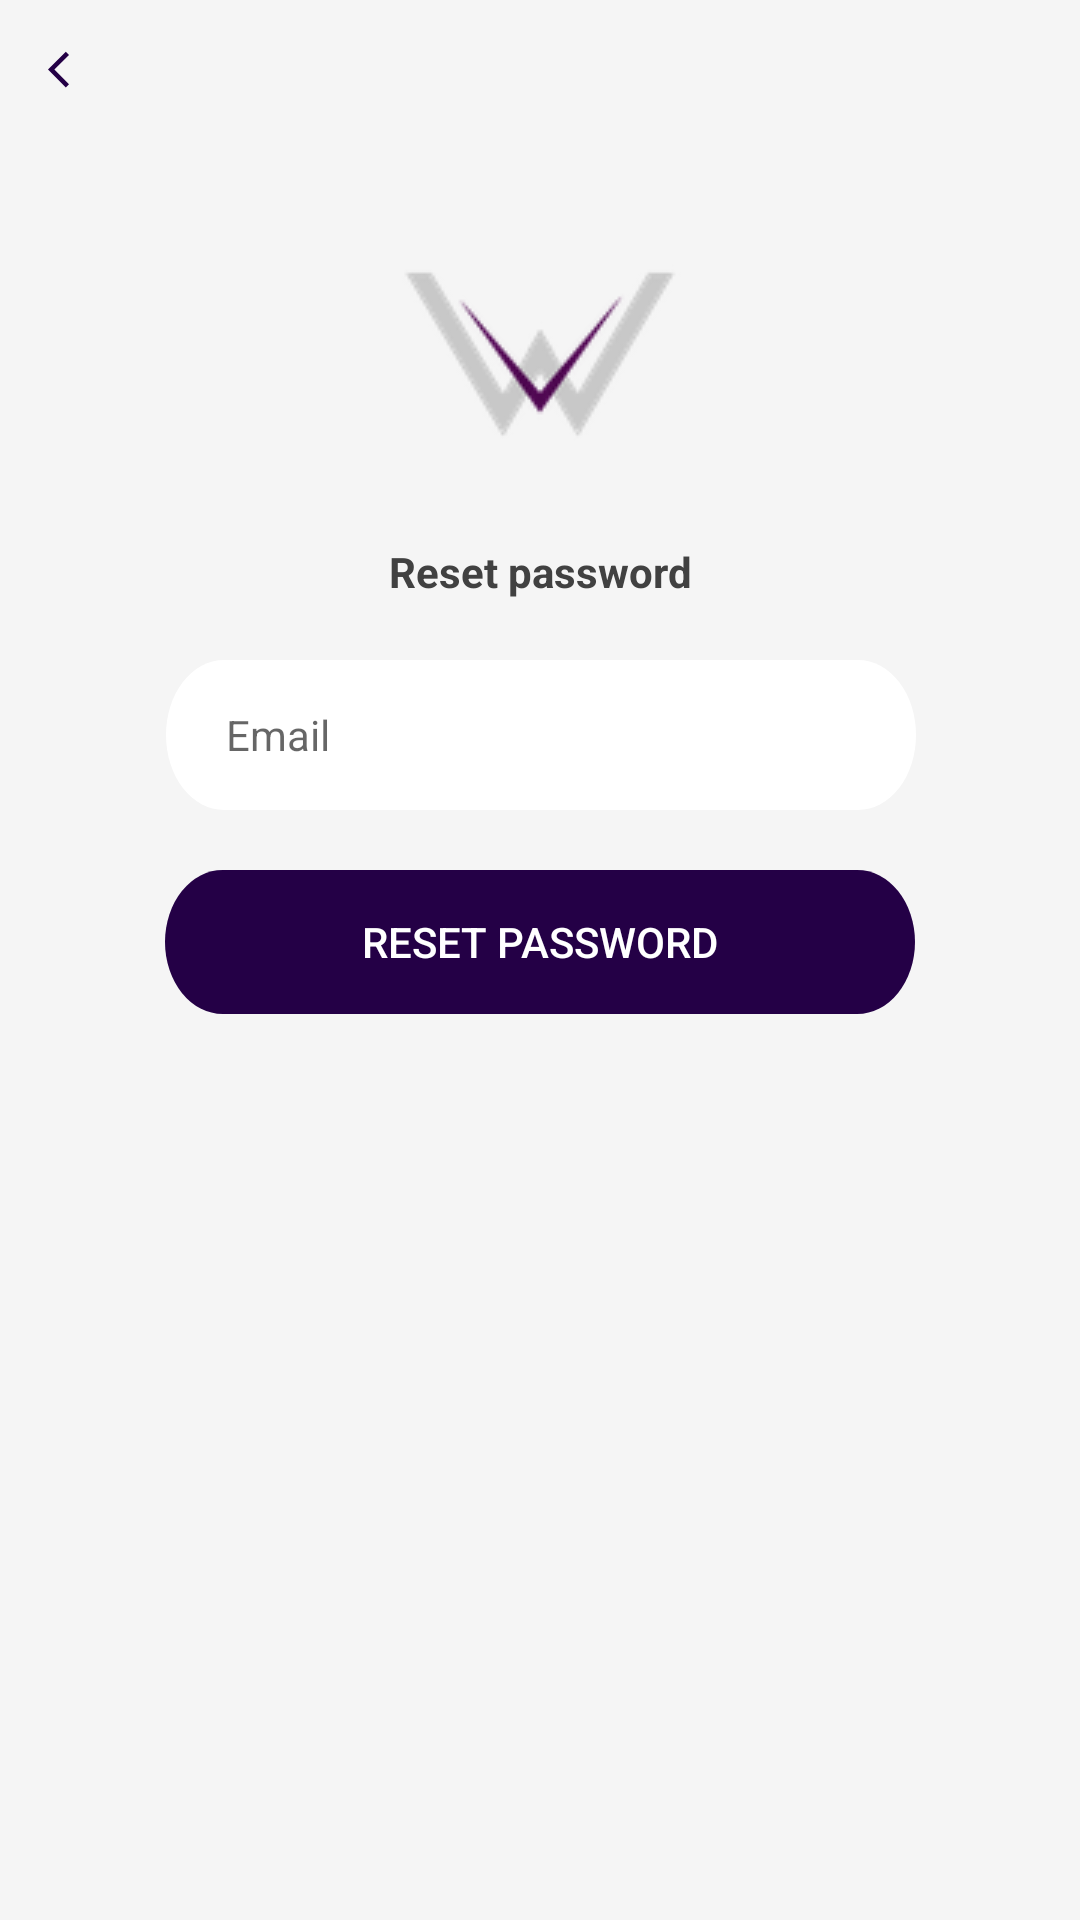

Screen size 1080 x 1920. Icon name, then its center in pixels as (x,y):
arrow back: (58,70)
